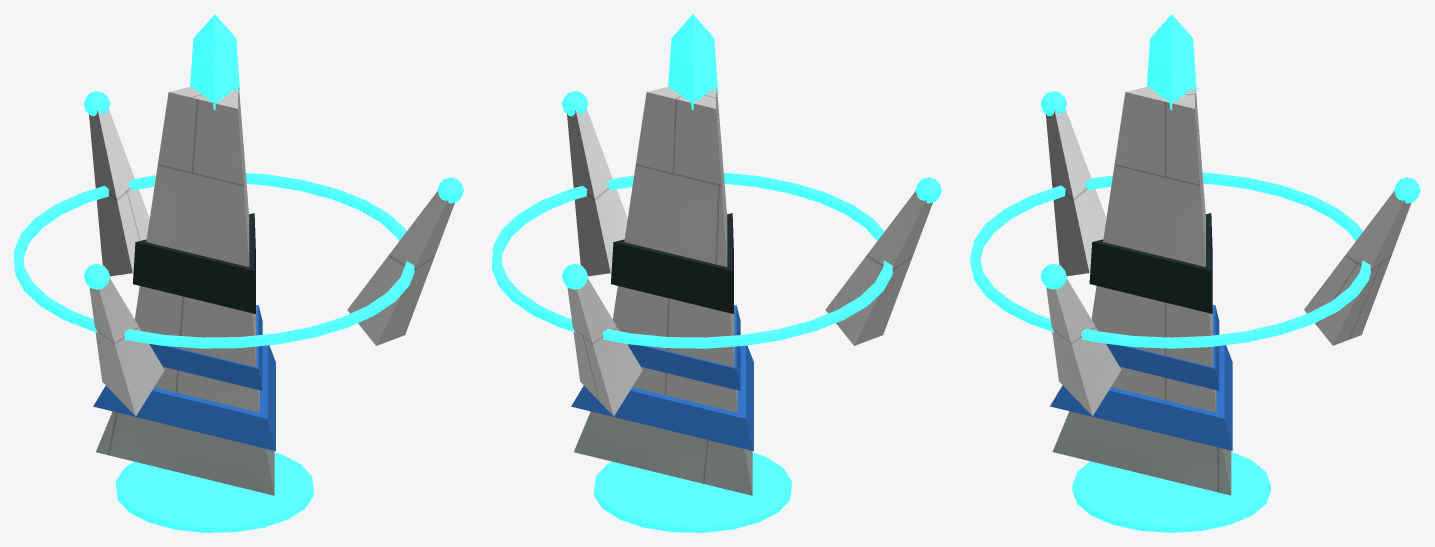
Rendered from energia_prisma.glb.
The picture shows the model from 3 angles, left to right: view 1: azimuth 30°, elevation 25°; view 2: azimuth 150°, elevation 25°; view 3: azimuth 270°, elevation 25°; orthographic projection.
Parts seen in each view (by area): view 1: Body_Shell, Orbit_Shell, Body_Glow, Orbit_Glow, Body_TeamColor, Body_ShellAlt, Body_Core; view 2: Body_Shell, Orbit_Shell, Body_Glow, Orbit_Glow, Body_TeamColor, Body_ShellAlt, Body_Core; view 3: Body_Shell, Orbit_Shell, Body_Glow, Orbit_Glow, Body_TeamColor, Body_ShellAlt, Body_Core.
Part boxes in pixels (x1,y1,x2,y2): Body_Shell: [135, 86, 259, 412]; Orbit_Shell: [89, 109, 454, 416]; Body_Glow: [116, 14, 313, 532]; Orbit_Glow: [14, 91, 463, 348]; Body_TeamColor: [93, 305, 275, 450]; Body_ShellAlt: [96, 411, 274, 495]; Body_Core: [133, 213, 255, 313]; Body_Shell: [613, 86, 737, 412]; Orbit_Shell: [567, 109, 932, 416]; Body_Glow: [594, 14, 791, 532]; Orbit_Glow: [492, 91, 941, 348]; Body_TeamColor: [571, 305, 753, 450]; Body_ShellAlt: [574, 411, 752, 495]; Body_Core: [611, 213, 733, 313]; Body_Shell: [1091, 86, 1216, 412]; Orbit_Shell: [1045, 109, 1411, 415]; Body_Glow: [1072, 14, 1270, 532]; Orbit_Glow: [970, 91, 1420, 348]; Body_TeamColor: [1050, 305, 1232, 450]; Body_ShellAlt: [1052, 411, 1231, 495]; Body_Core: [1089, 213, 1212, 313].
Bounding box in the file's own units: 3.27 × 3.97 × 3.4.
Materials: 5 (2 with a texture image).
